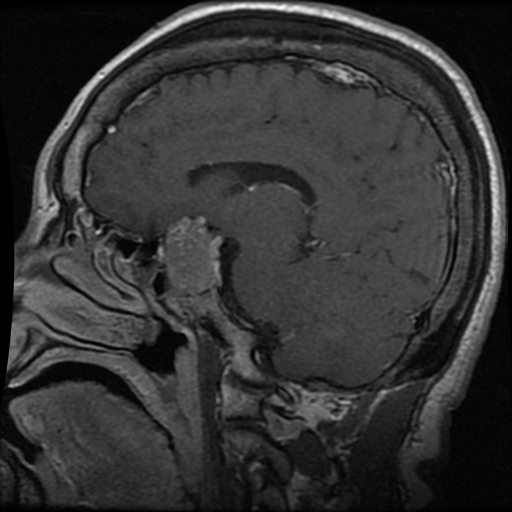pituitary: (163, 219, 219, 292)
